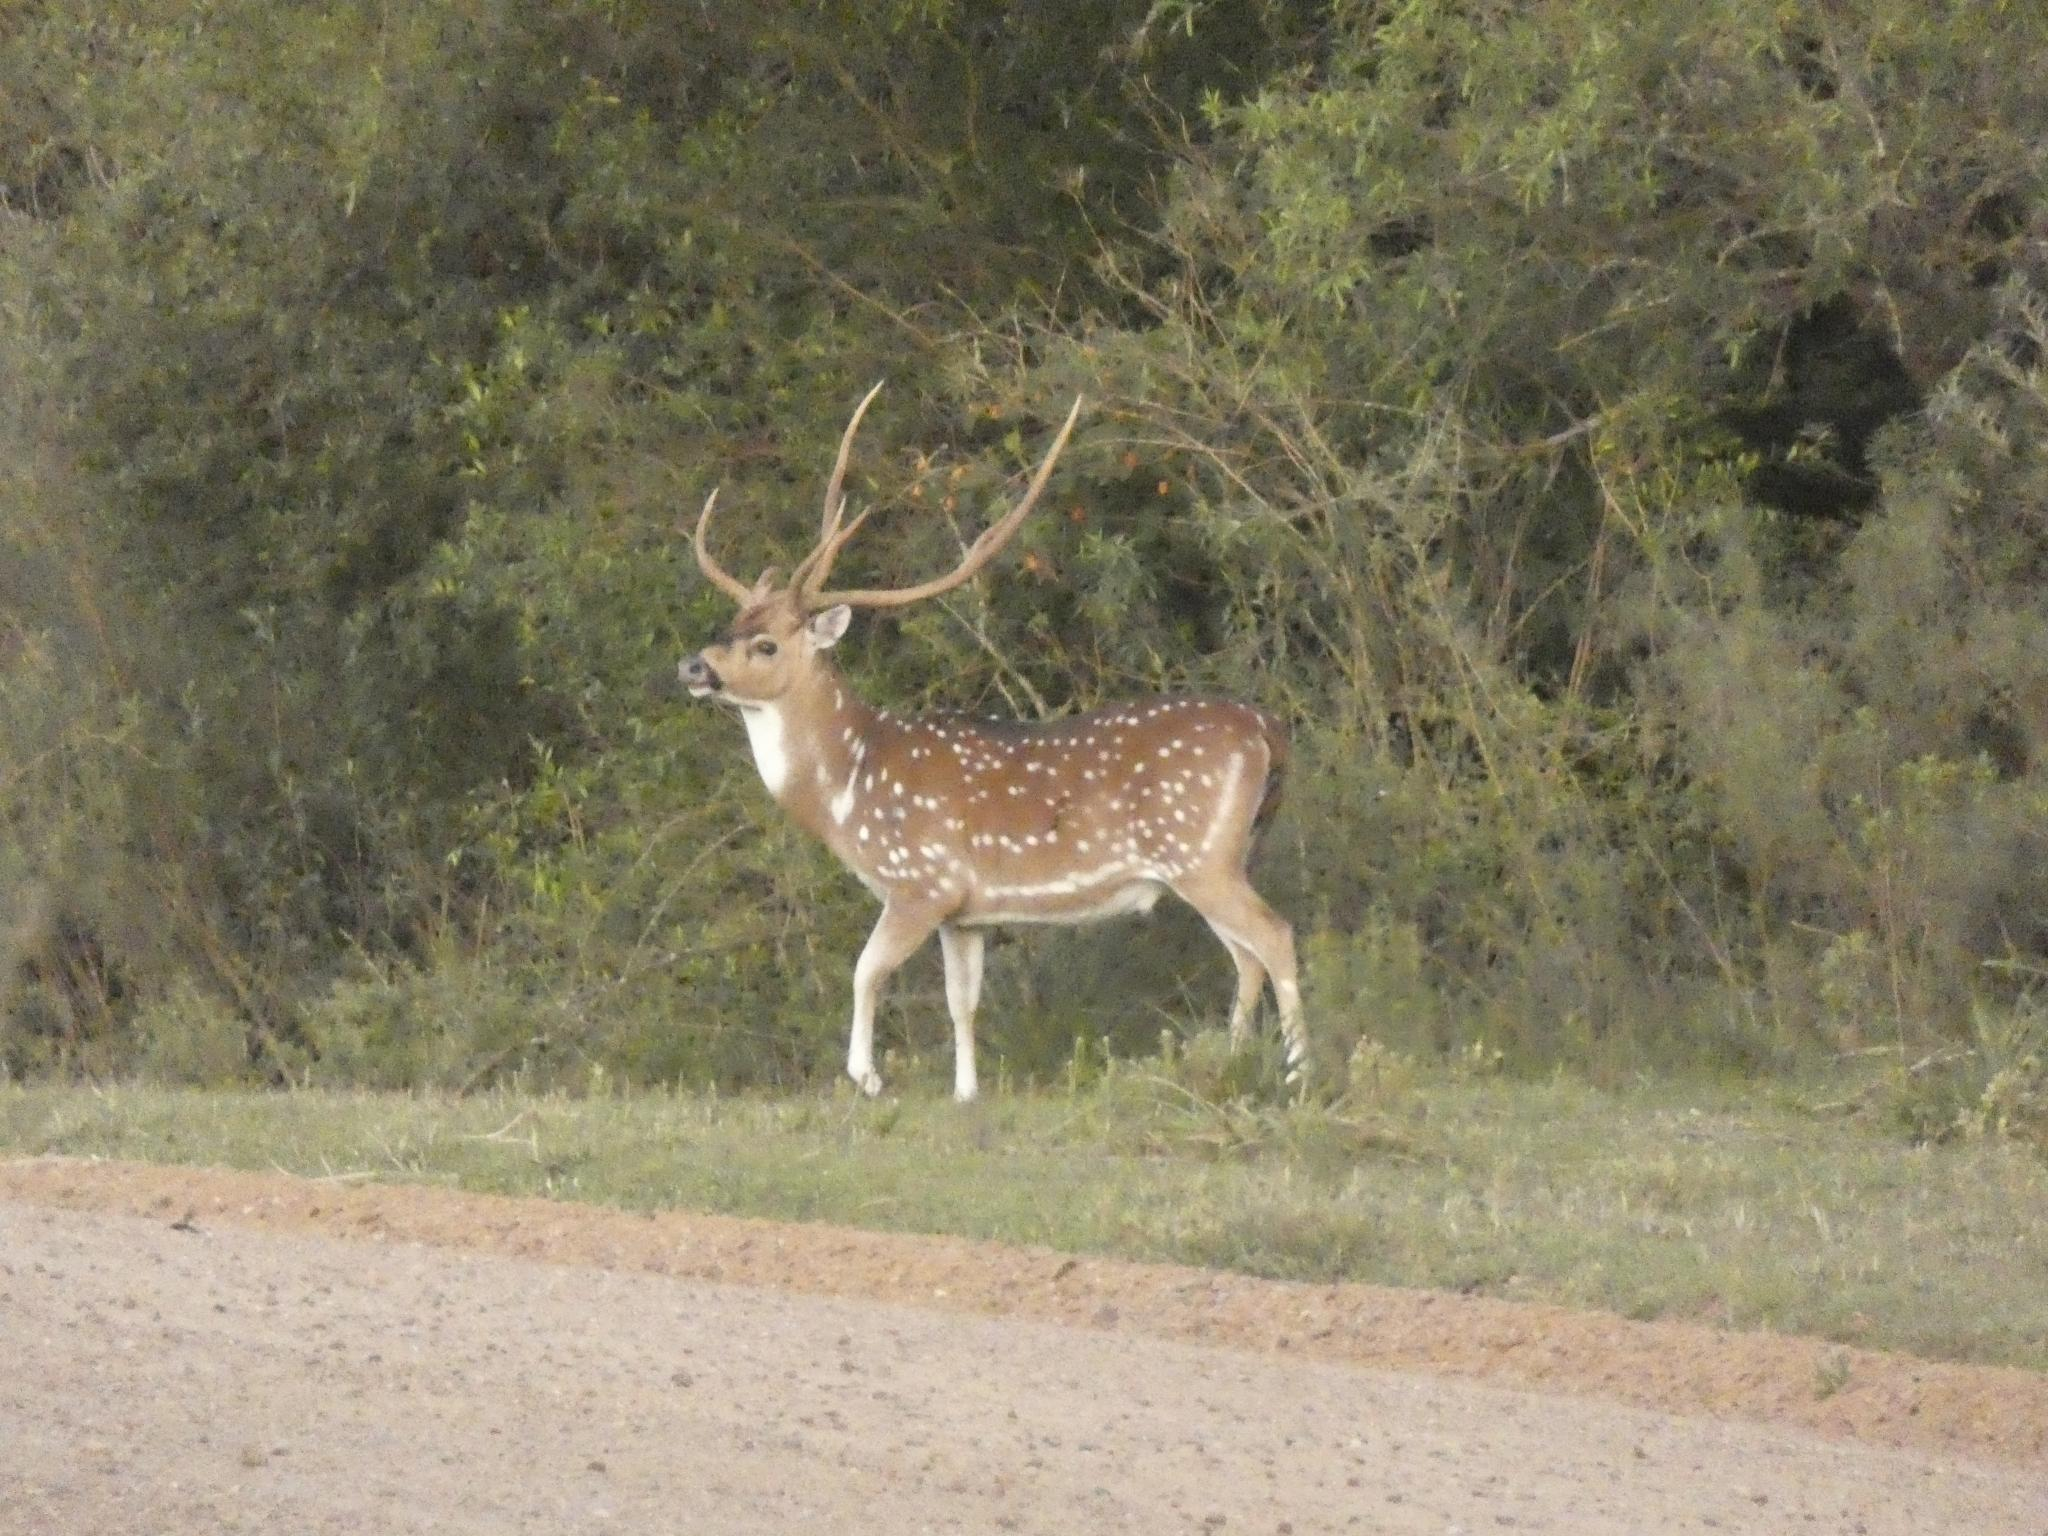Deer: (677, 386, 1309, 1100)
